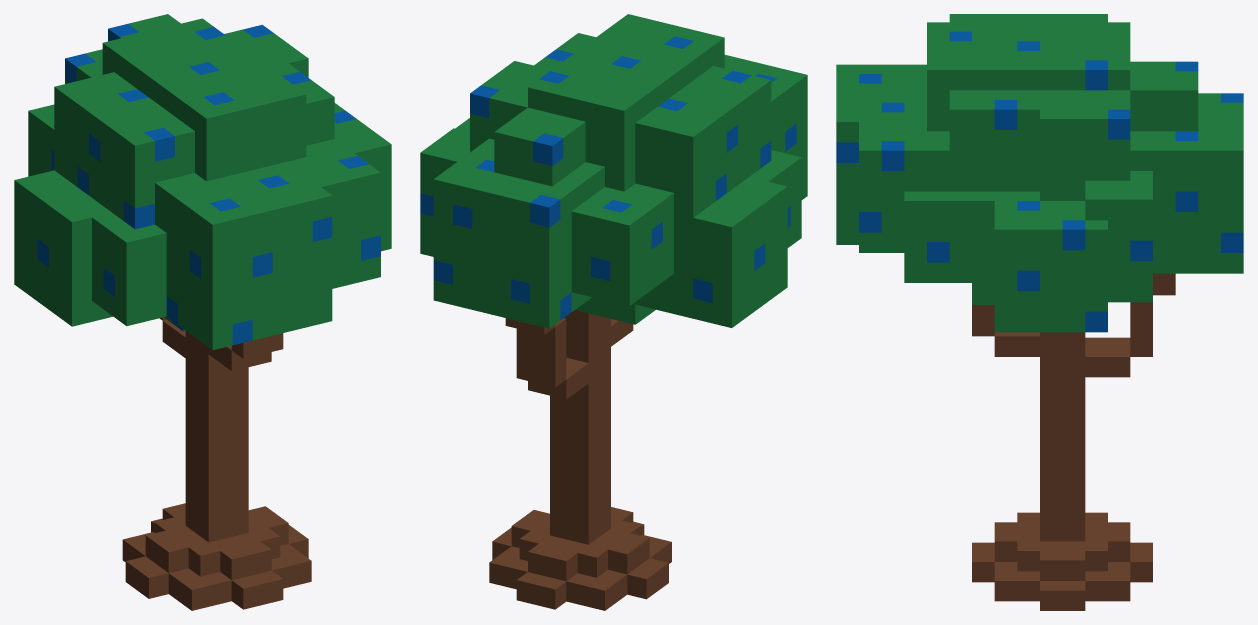
Rendered from blue_tree2.obj.
The picture shows the model from 3 angles, left to right: view 1: azimuth 30°, elevation 25°; view 2: azimuth 150°, elevation 25°; view 3: azimuth 270°, elevation 25°; orthographic projection. The views are drawn at different scales.
Bounding box in the file's own units: 1.6 × 2.5 × 1.8.
1 material, 1 textured.
